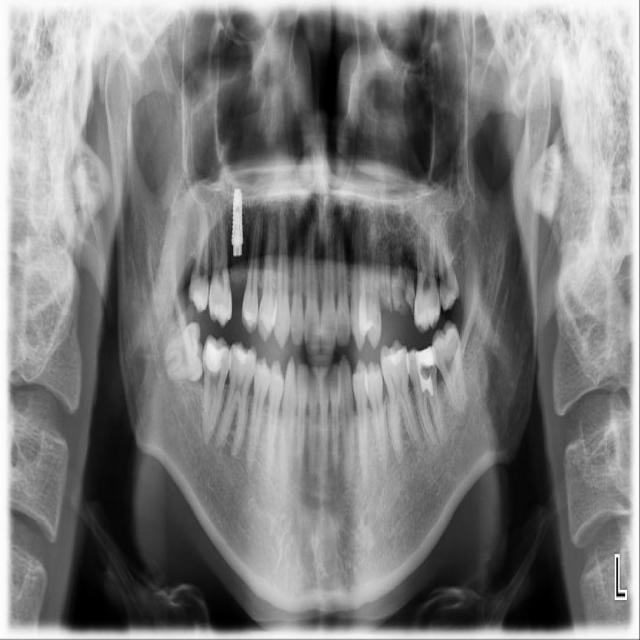Caries: (420, 365, 435, 381)
Filling: (205, 341, 229, 372), (416, 345, 434, 365)
Implant: (232, 186, 243, 255)
impacted tooth: (164, 321, 201, 381)
